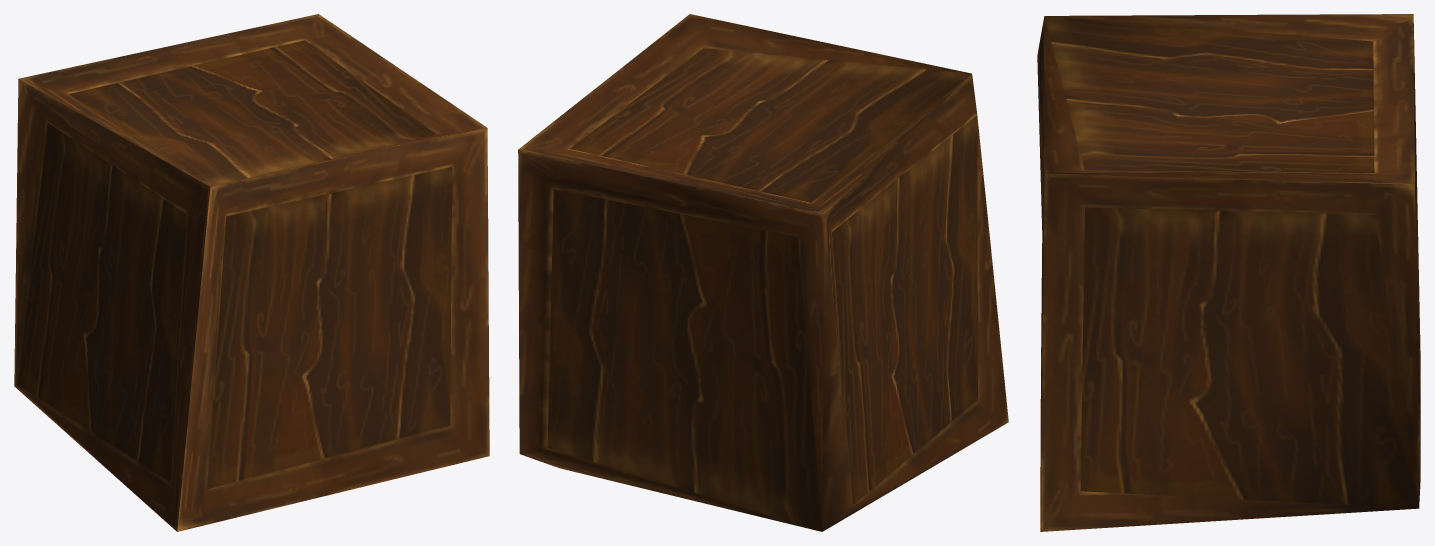
File: 5_V_Caja_Claro2_LOD_1.fbx
3 views of the same model, side by side, from view 1: azimuth 30°, elevation 25°; view 2: azimuth 150°, elevation 25°; view 3: azimuth 270°, elevation 25° (orthographic). The views are drawn at different scales.
Parts seen in each view (by area): view 1: 5_V_Caja_Claro2_LOD_1; view 2: 5_V_Caja_Claro2_LOD_1; view 3: 5_V_Caja_Claro2_LOD_1.
Boxes of the visible parts, x1,y1,x2,y2 form: 5_V_Caja_Claro2_LOD_1: (14, 14, 489, 531); 5_V_Caja_Claro2_LOD_1: (518, 14, 1008, 531); 5_V_Caja_Claro2_LOD_1: (1037, 14, 1420, 531).
Bounding box in the file's own units: 64.98 × 66.16 × 62.53.
